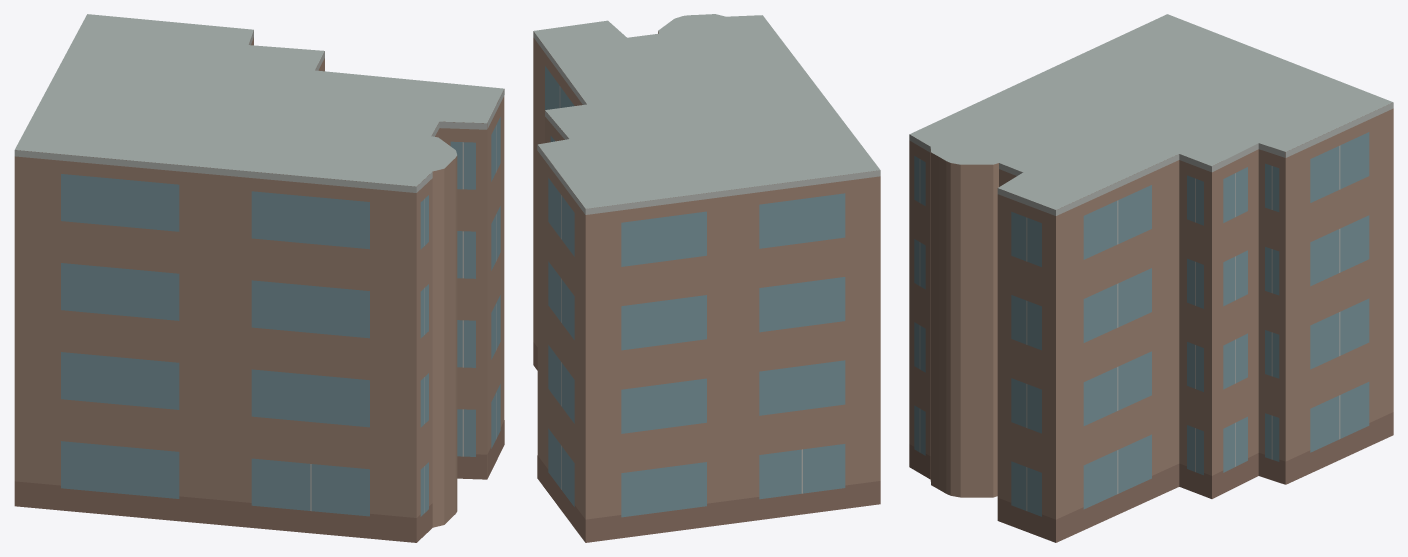
Rendered from survey-upis-33033480.glb.
3 renders of one model, left to right at view 1: azimuth 30°, elevation 25°; view 2: azimuth 150°, elevation 25°; view 3: azimuth 270°, elevation 25°, orthographic. The views are drawn at different scales.
Visible parts, largest first — view 1: survey-upis-33033480.tmp; view 2: survey-upis-33033480.tmp; view 3: survey-upis-33033480.tmp.
Part boxes in pixels (left/top/right/bottom): survey-upis-33033480.tmp: left=14, top=14, right=504, bottom=542; survey-upis-33033480.tmp: left=533, top=14, right=880, bottom=542; survey-upis-33033480.tmp: left=909, top=14, right=1393, bottom=542.
Size of the model in its own units: 16.81 by 13.3 by 17.54.
